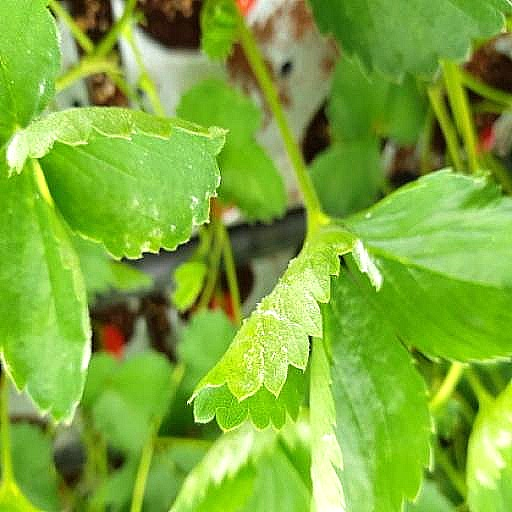Powdery Mildew Leaf: (185, 76, 384, 293), (334, 146, 511, 346), (5, 252, 231, 405)
